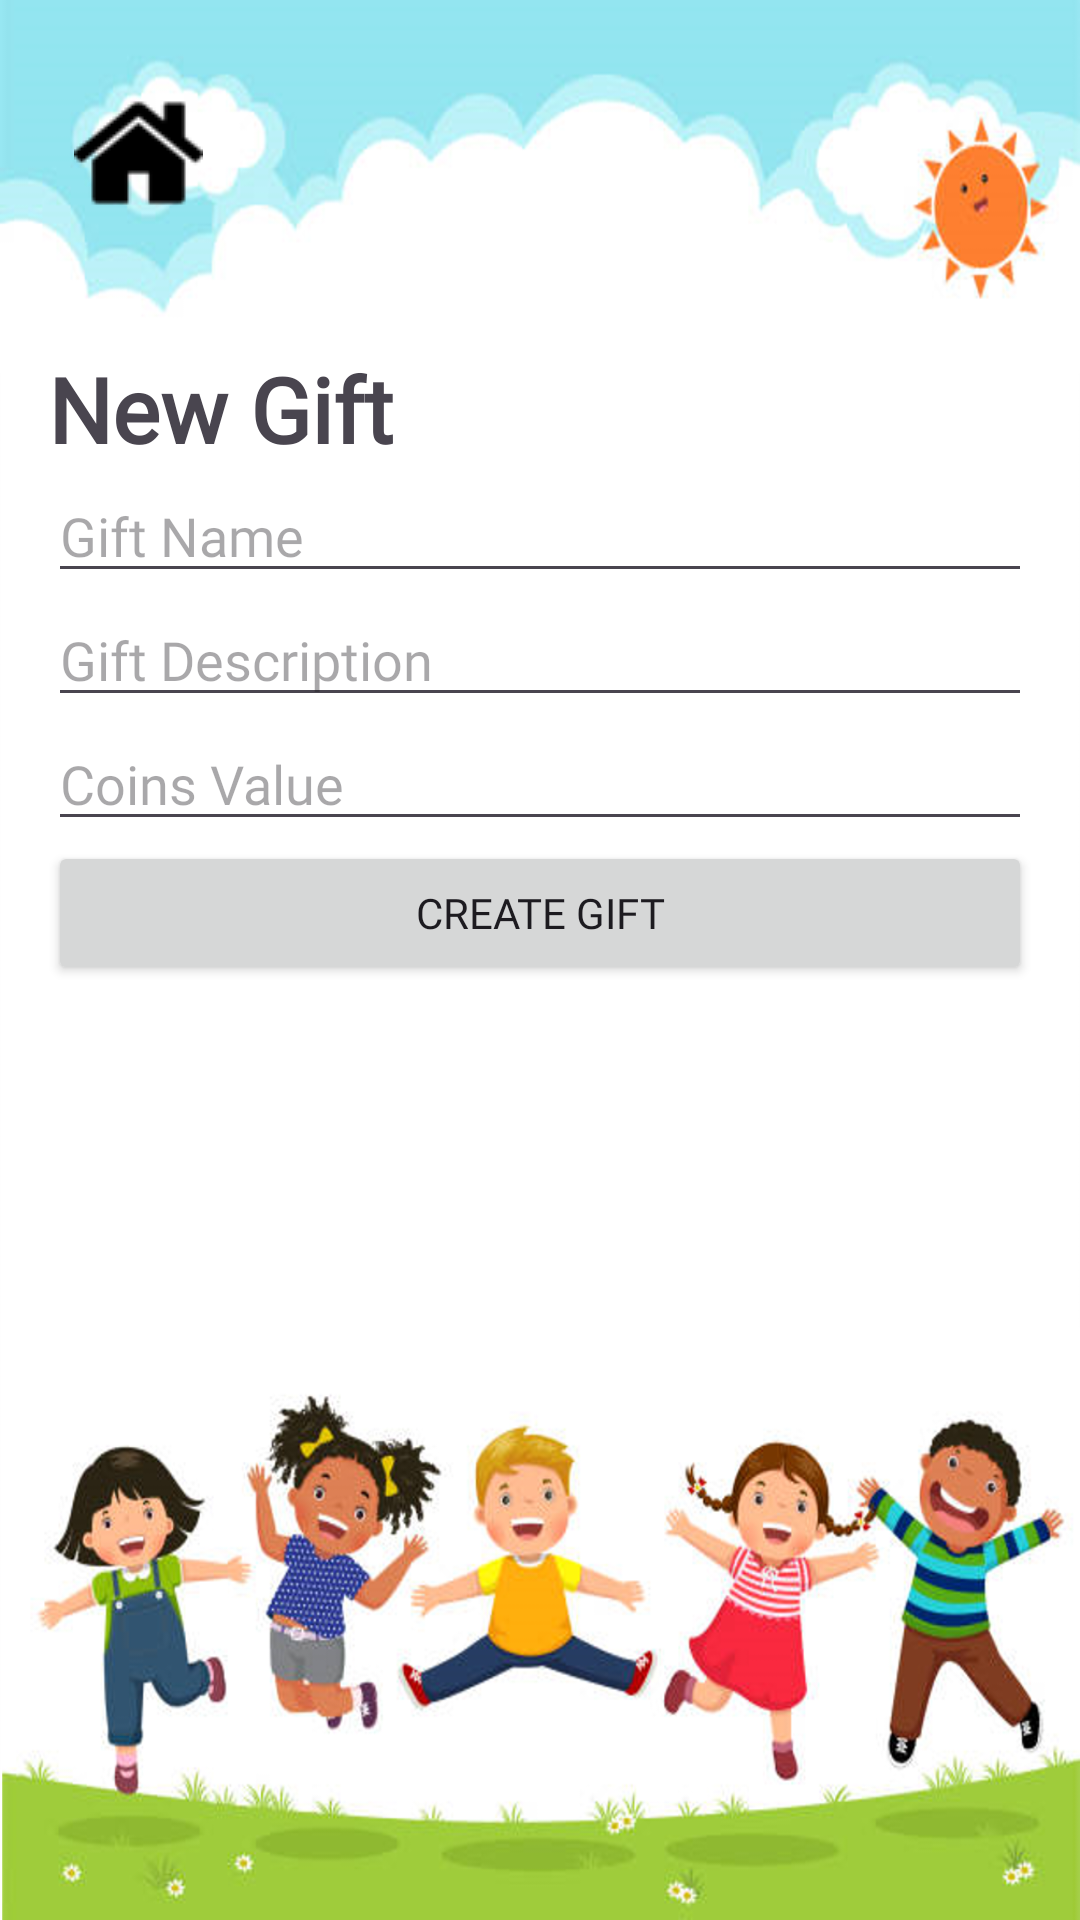

Where to tap for icons on this 1080 x 1920 app screen, as (x,y):
home: (138,153)
